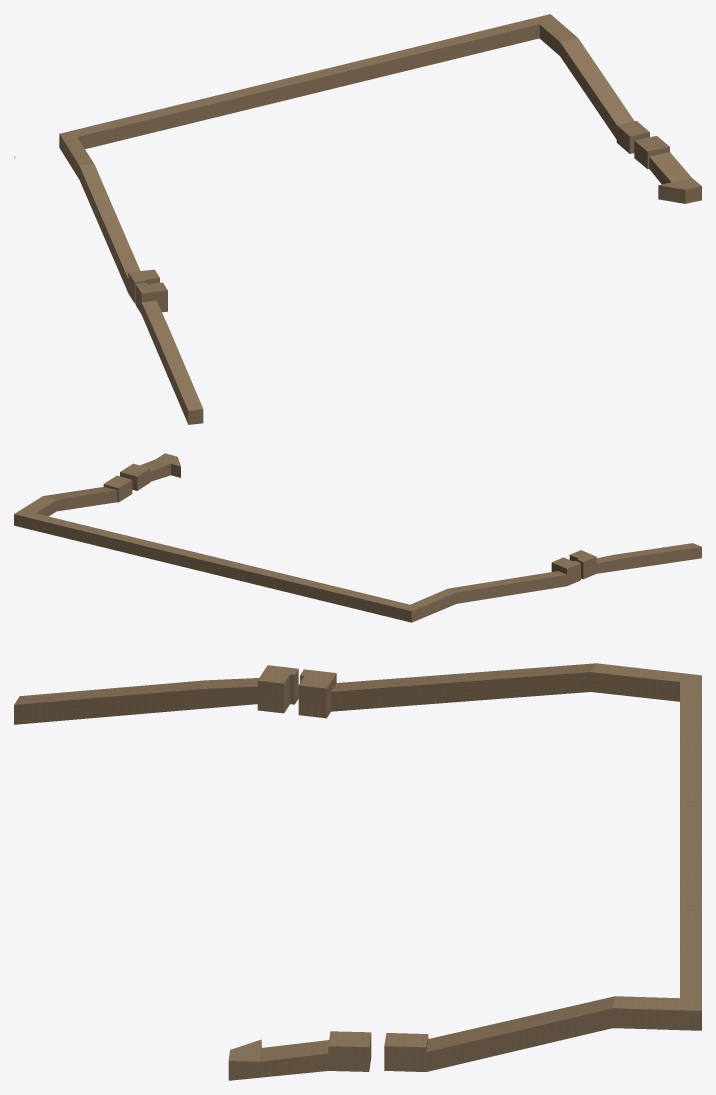
File: Bubastieion.glb
3 renders of one model, top to bottom at view 1: azimuth 30°, elevation 25°; view 2: azimuth 150°, elevation 25°; view 3: azimuth 270°, elevation 25°, orthographic. The views are drawn at different scales.
Visible parts, largest first — view 1: Mesh1 Model, Mesh3 Model, Mesh2 Model; view 2: Mesh1 Model, Mesh3 Model, Mesh2 Model; view 3: Mesh1 Model, Mesh3 Model, Mesh2 Model.
Part boxes in pixels (box(x1,y1,x2,y2)): Mesh1 Model: box(59, 14, 649, 303); Mesh3 Model: box(135, 282, 203, 424); Mesh2 Model: box(634, 136, 701, 203); Mesh1 Model: box(14, 475, 580, 622); Mesh3 Model: box(569, 543, 701, 579); Mesh2 Model: box(120, 453, 180, 490); Mesh1 Model: box(298, 663, 701, 1071); Mesh3 Model: box(14, 665, 298, 724); Mesh2 Model: box(228, 1031, 371, 1080).
Size of the model in its own units: 358 by 48 by 252.
Materials: 2 (2 with a texture image).
